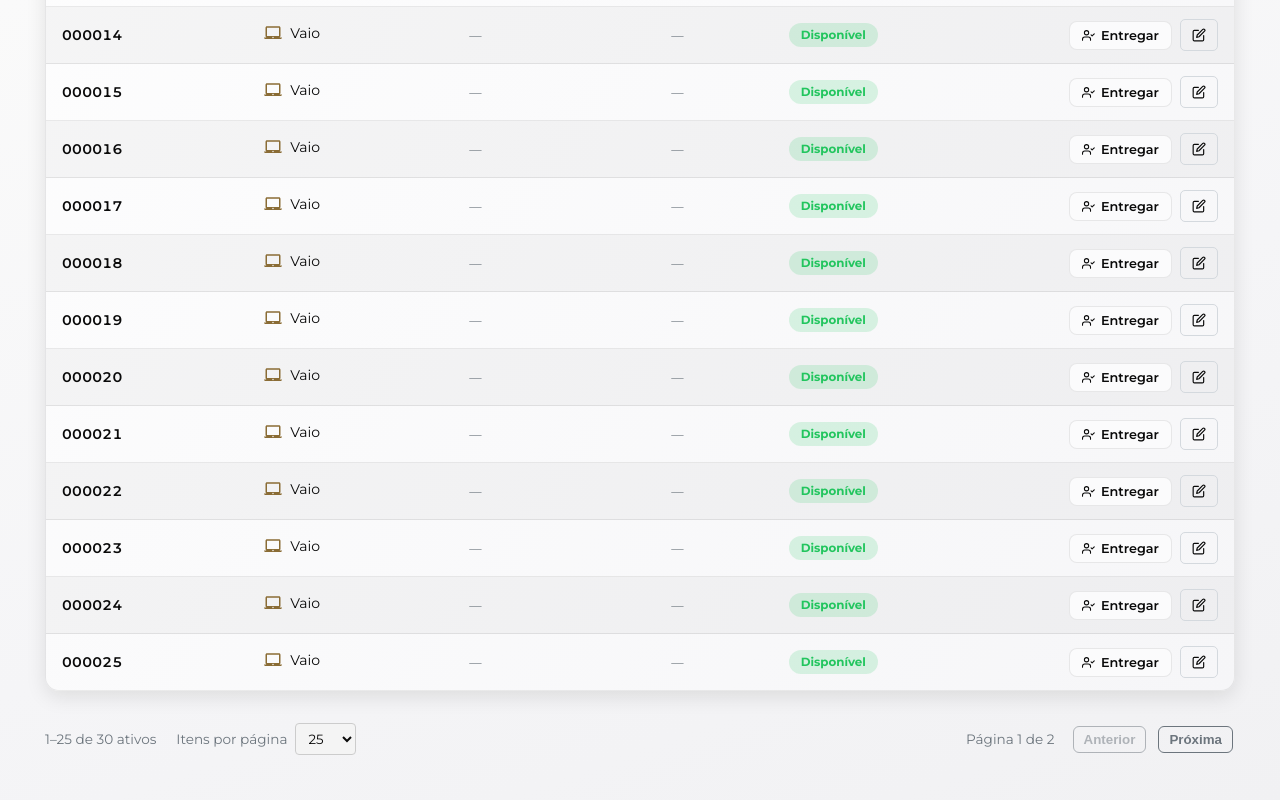
Test: Inventário de TI › paginação › avança e volta de página
(page scrolled)
What coordinates should you click on to do the following:
click the button "Próxima"
I would click on:
 (1196, 739)
Its box is [1158,726,1233,752].
(page scrolled)
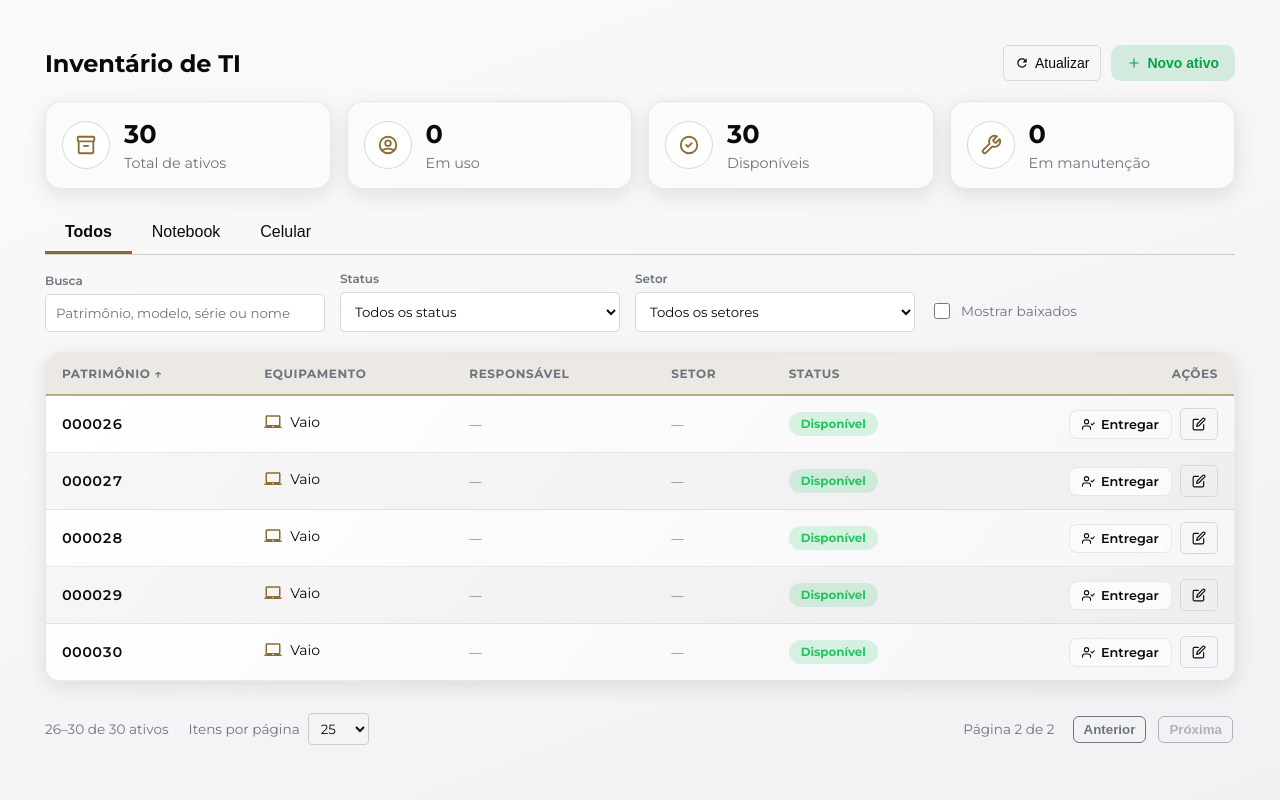
Result: the number of rows with class "inv-row" is 5 at [46,395,1234,452]; [46,452,1234,510]; [46,510,1234,566]; [46,566,1234,624]; [46,624,1234,680]
Result: the cell "000026" is shown at [46,395,248,452]
Result: the text "26–30 de 30 ativos" is shown at [45,721,169,737]
What coordinates should you click on to do the following:
click the button "Anterior"
I would click on:
 (1109, 729)
Its box is [1072,716,1146,742].
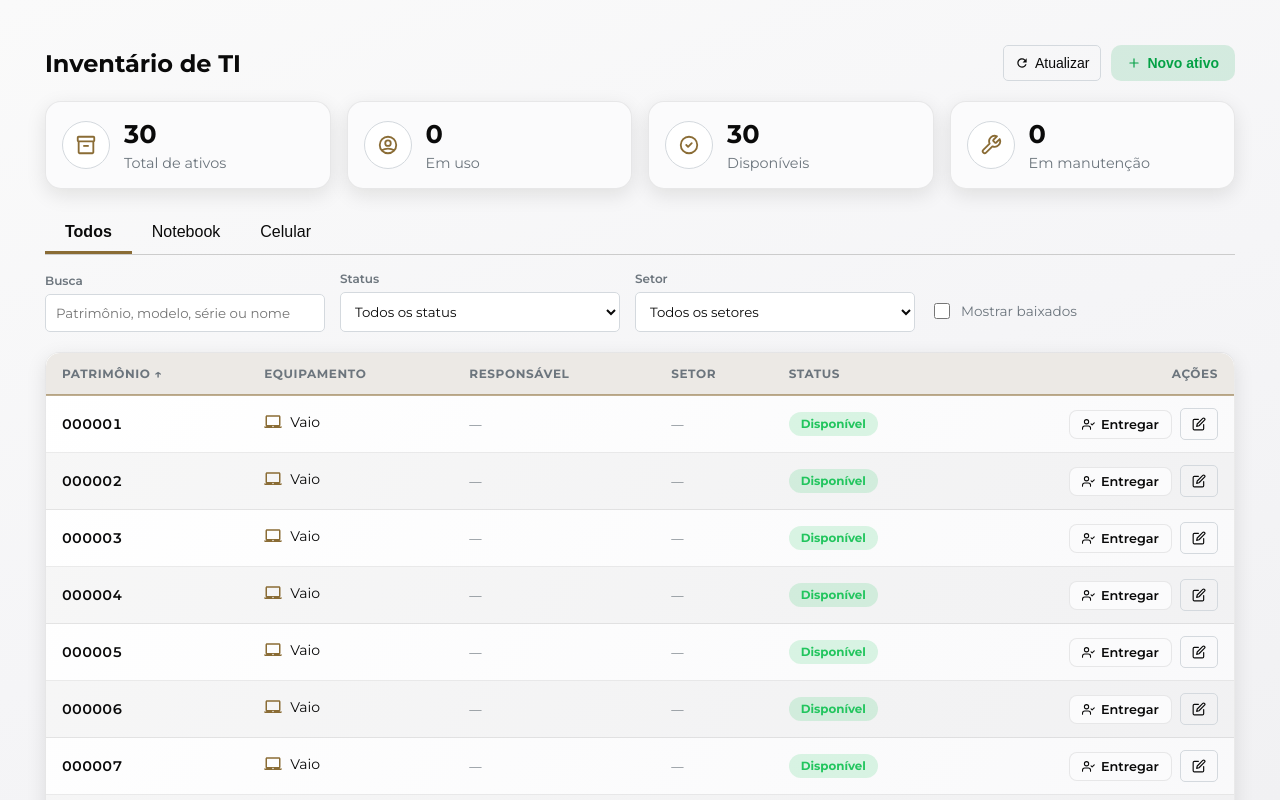
Result: the cell "000001" is shown at [46,395,248,452]
